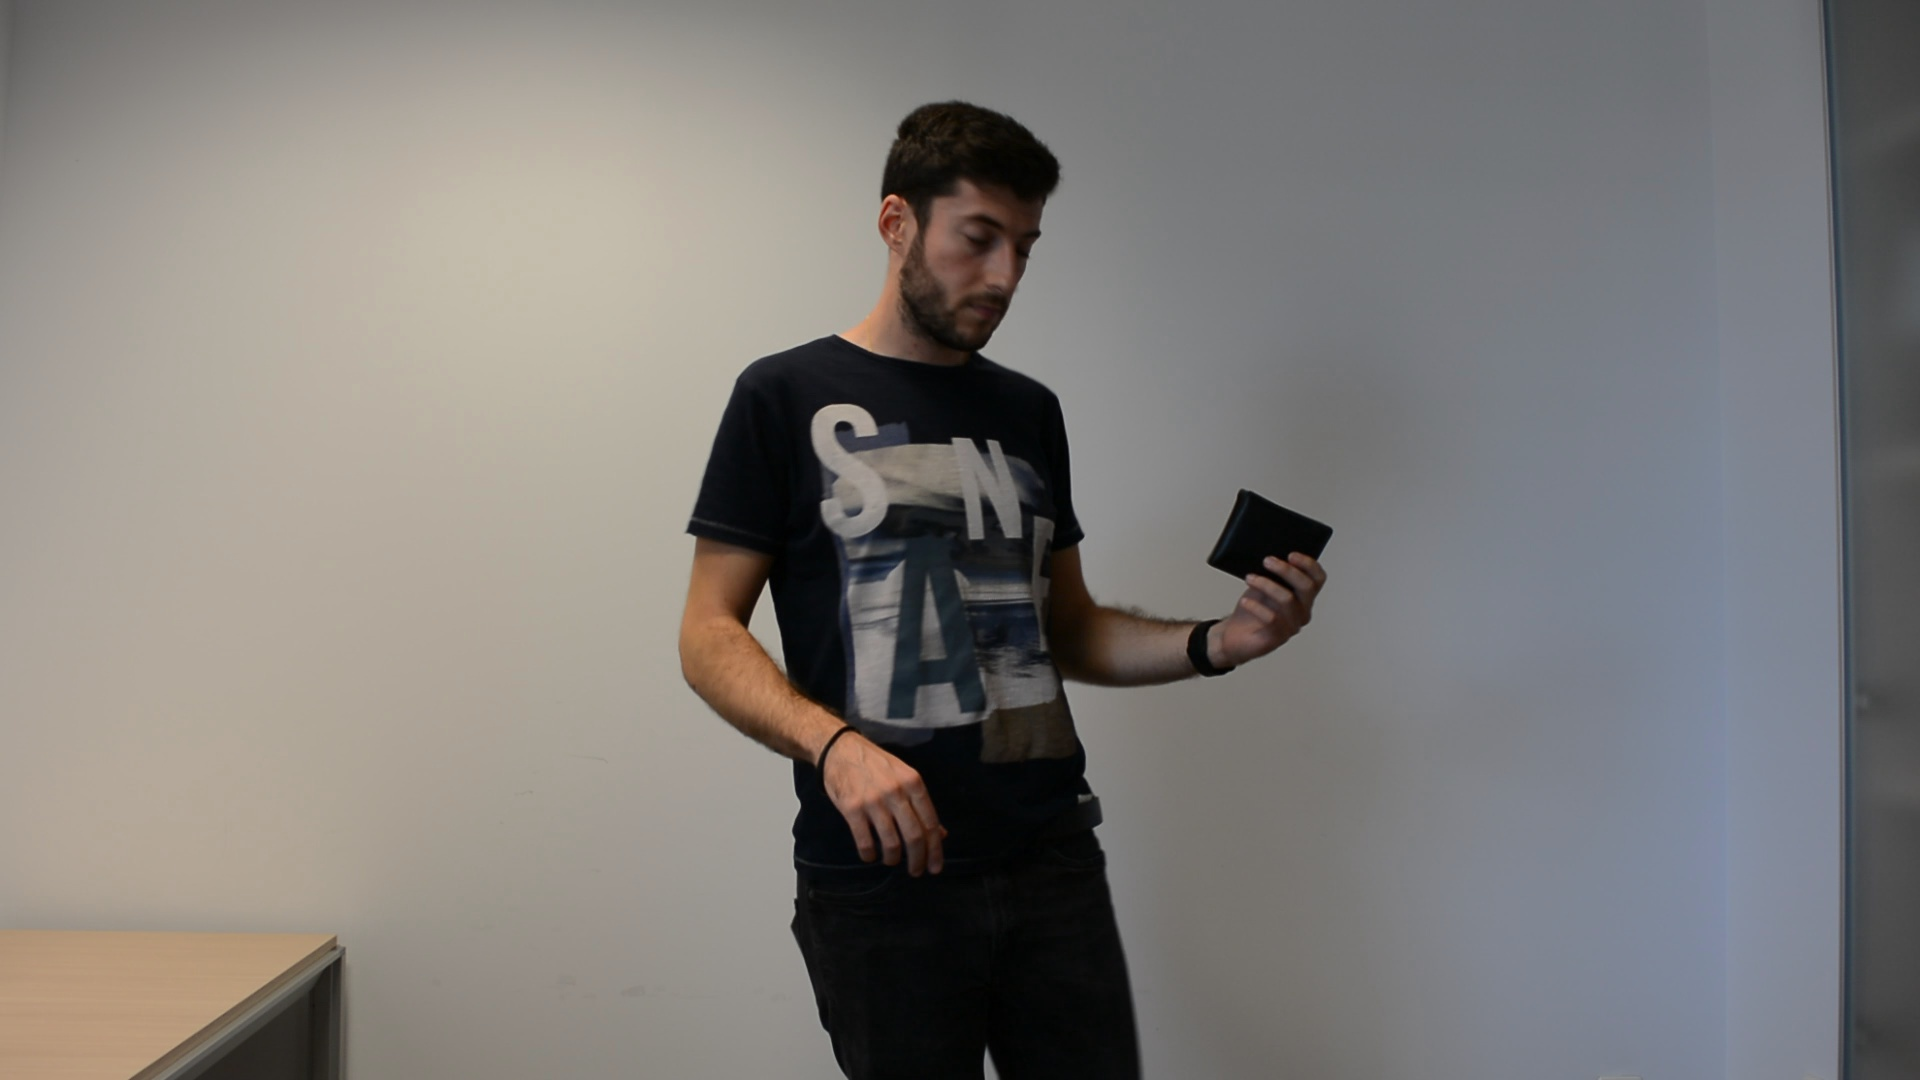monedero: (1205, 487, 1337, 593)
